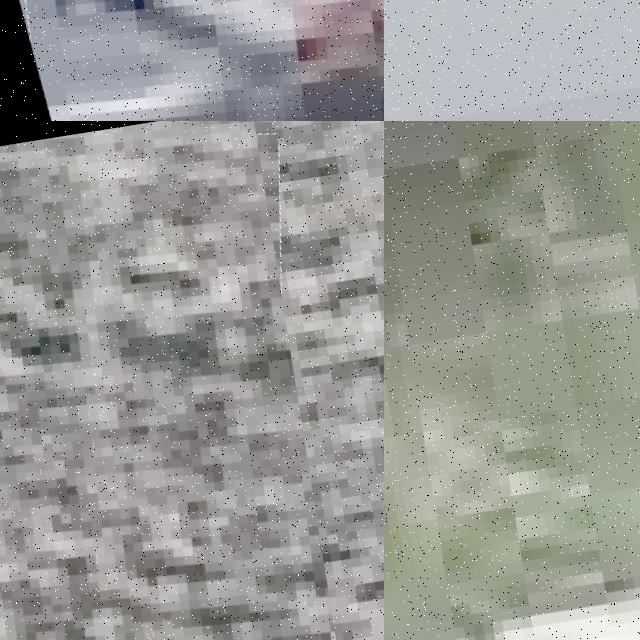drone: (0, 121, 352, 640), (0, 0, 384, 121)
